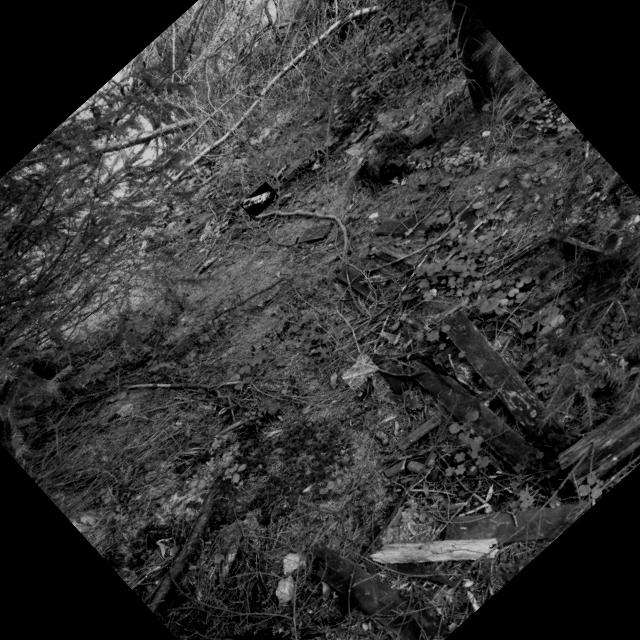Drink can: (243, 189, 277, 209)
Unlabeled litter: (343, 364, 379, 379)
